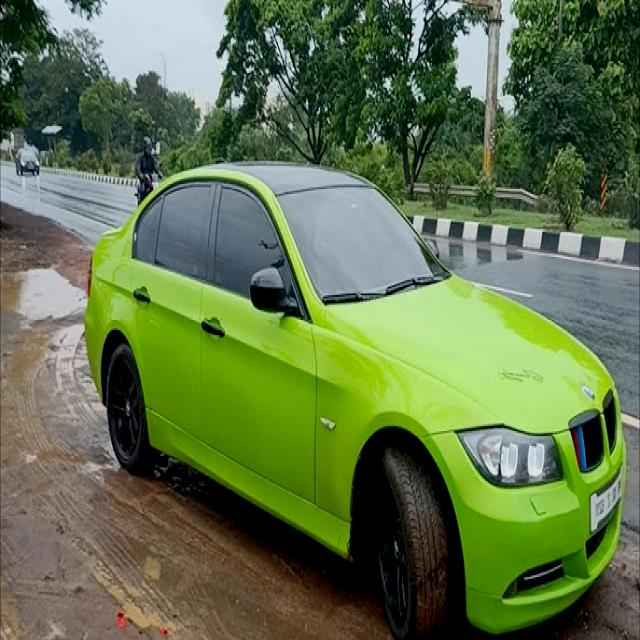green: (85, 168, 621, 629)
